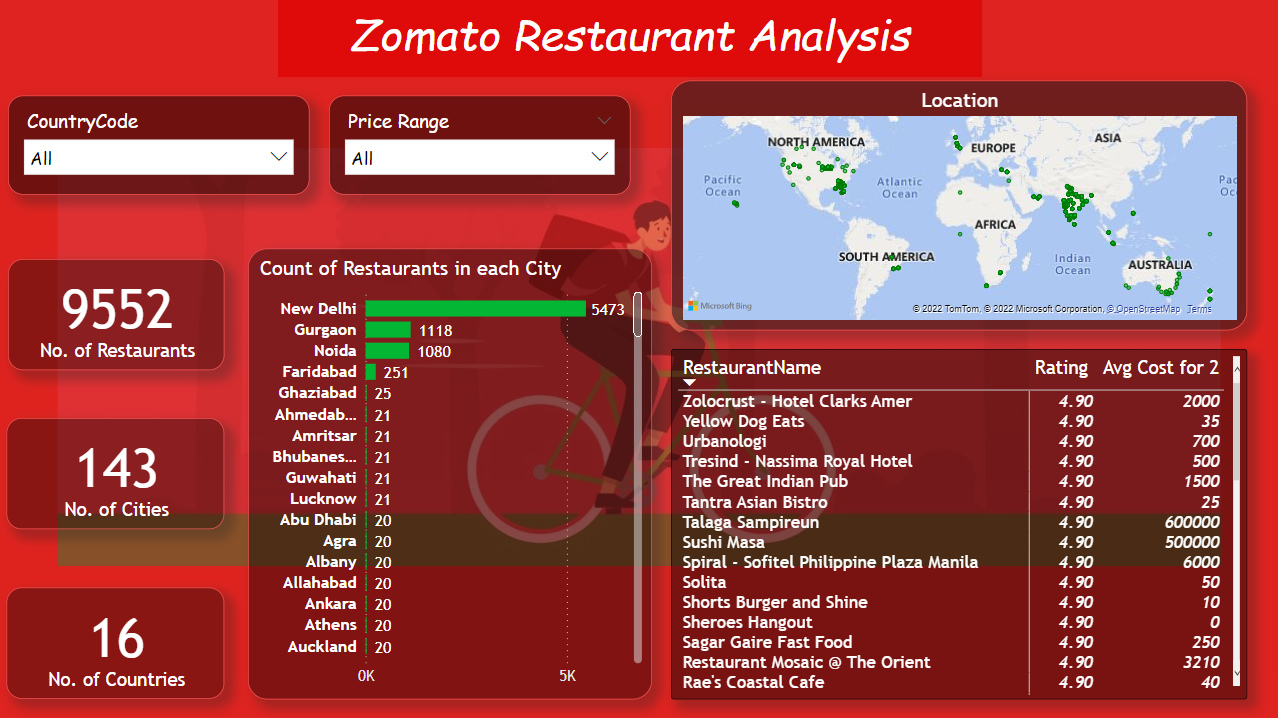

Layout of this report page (visuals, bound fields, positions):
{"tool":"powerbi","page":{"name":"Page 1","canvas":[1280,720],"ordinal":0},"visuals":[{"type":"card","fields":{"Values":["Count(ZomatoData.RestaurantID)"]},"box":[12.1,259.3,215.4,110.7],"z":0},{"type":"card","fields":{"Values":["Count(ZomatoData.City)"]},"box":[10.6,418.6,216.9,110.7],"z":1000},{"type":"card","fields":{"Values":["Count(ZomatoData.CountryCode)"]},"box":[10.6,586.9,216.9,110.7],"z":2000},{"type":"slicer","fields":{"Values":["ZomatoData.CountryCode"]},"box":[12.1,97.1,300.3,98.6],"z":3000},{"type":"slicer","fields":{"Values":["ZomatoData.Price_range"]},"box":[330.6,97.1,300.3,98.6],"z":4000},{"type":"clusteredBarChart","title":"Count of Restaurants in each City","fields":{"Category":["ZomatoData.City"],"Y":["CountNonNull(ZomatoData.RestaurantID)"]},"box":[250.2,248.7,401.9,448.9],"z":6000},{"type":"pivotTable","fields":{"Rows":["ZomatoData.RestaurantName"],"Values":["Avg(ZomatoData.Rating)","Sum(ZomatoData.Average_Cost_for_two)"]},"box":[671.8,348.8,573.3,348.8],"z":7000},{"type":"textbox","box":[280.6,0,700.7,78.9],"z":8000},{"type":"map","title":"Location","fields":{"Y":["ZomatoData.Latitude"],"X":["ZomatoData.Longitude"]},"box":[671.8,81.9,573.3,248.7],"z":9000}]}

Visuals, with their boxes in screenshot pixels (x1, y1, x2, y2), scaled from the page's 1280x720 canvas onto the 1278x718 screenshot:
card - Count(ZomatoData.RestaurantID): [12, 259, 227, 369]
card - Count(ZomatoData.City): [11, 417, 227, 528]
card - Count(ZomatoData.CountryCode): [11, 585, 227, 696]
slicer - ZomatoData.CountryCode: [12, 97, 312, 195]
slicer - ZomatoData.Price_range: [330, 97, 630, 195]
"Count of Restaurants in each City" clusteredBarChart: [250, 248, 651, 696]
pivotTable - ZomatoData.RestaurantName x Avg(ZomatoData.Rating): [671, 348, 1243, 696]
textbox: [280, 0, 980, 79]
"Location" map: [671, 82, 1243, 330]
